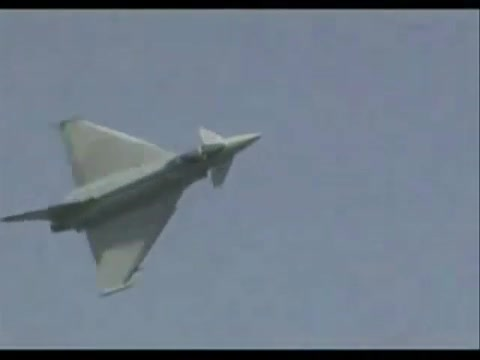aeroplane: (2, 117, 261, 297)
